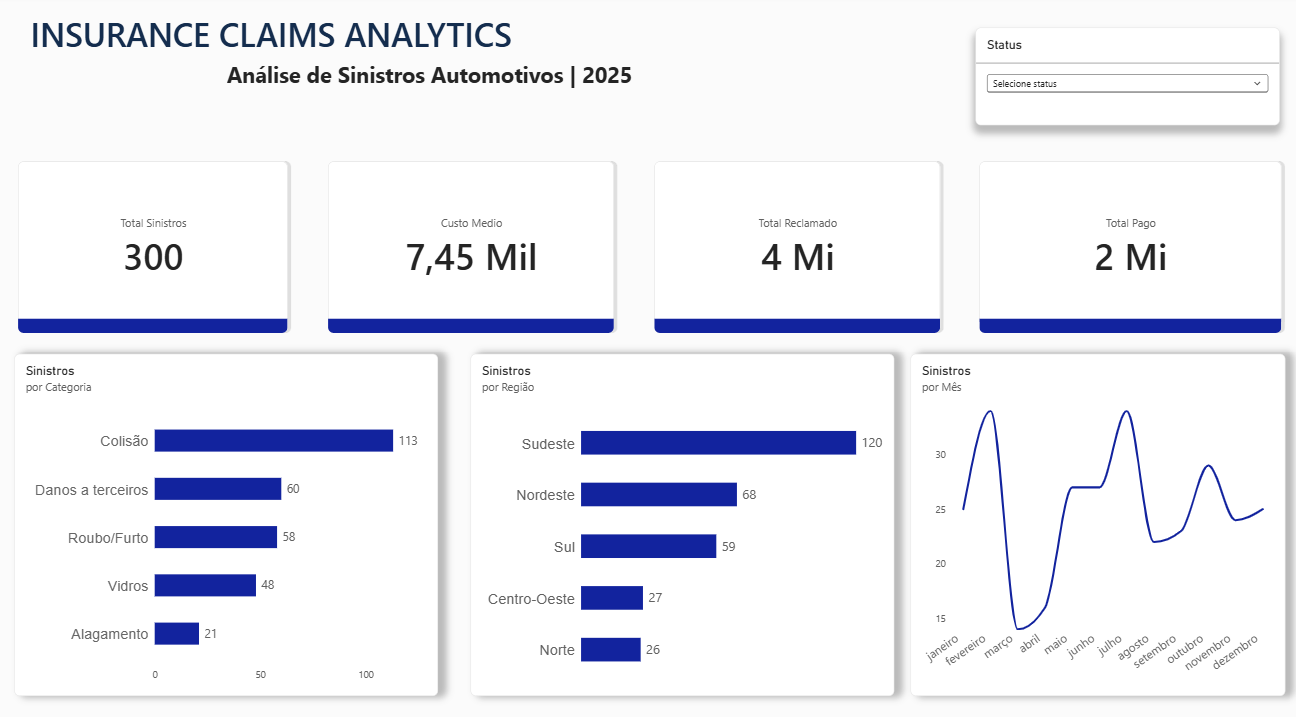

The dashboard page shown, as its layout file describes it:
{"tool":"powerbi","page":{"name":"Página 1","canvas":[1920,1080],"ordinal":0},"visuals":[{"type":"cardVisual","fields":{"Data":["sinistros_2025.Total Sinistros"]},"box":[24,240,408,264],"z":0},{"type":"cardVisual","fields":{"Data":["sinistros_2025.Custo Medio"]},"box":[480,240,432,264],"z":1},{"type":"cardVisual","fields":{"Data":["sinistros_2025.Total Reclamado"]},"box":[960,240,432,264],"z":2},{"type":"cardVisual","fields":{"Data":["sinistros_2025.Total Pago"]},"box":[1440,240,456,264],"z":3},{"type":"clusteredBarChart","title":"Sinistros","fields":{"Category":["sinistros_2025.tipo_sinistro"],"Y":["sinistros_2025.Total Sinistros"]},"box":[24,528,624,504],"z":4},{"type":"clusteredBarChart","title":"Sinistros","fields":{"Category":["sinistros_2025.regiao"],"Y":["sinistros_2025.Total Sinistros"]},"box":[696,528,624,504],"z":5},{"type":"lineChart","title":"Sinistros","fields":{"Category":["sinistros_2025.data_ocorrencia.Variação.Hierarquia de datas.Ano","sinistros_2025.data_ocorrencia.Variação.Hierarquia de datas.Mês"],"Y":["sinistros_2025.Total Sinistros"]},"box":[1344,528,552,504],"z":6},{"type":"textbox","box":[48,24,720,72],"z":7},{"type":"textbox","box":[336,96,624,48],"z":8},{"type":"listSlicer","title":"Status","fields":{"Values":["sinistros_2025.status"]},"box":[1440,48,448,144],"z":9}]}

Visuals, with their boxes in screenshot pixels (x1, y1, x2, y2), scaled from the page's 1920x1080 canvas onto the 1296x717 screenshot:
cardVisual - sinistros_2025.Total Sinistros: {"left": 16, "top": 159, "right": 292, "bottom": 335}
cardVisual - sinistros_2025.Custo Medio: {"left": 324, "top": 159, "right": 616, "bottom": 335}
cardVisual - sinistros_2025.Total Reclamado: {"left": 648, "top": 159, "right": 940, "bottom": 335}
cardVisual - sinistros_2025.Total Pago: {"left": 972, "top": 159, "right": 1280, "bottom": 335}
"Sinistros" clusteredBarChart: {"left": 16, "top": 351, "right": 437, "bottom": 685}
"Sinistros" clusteredBarChart: {"left": 470, "top": 351, "right": 891, "bottom": 685}
"Sinistros" lineChart: {"left": 907, "top": 351, "right": 1280, "bottom": 685}
textbox: {"left": 32, "top": 16, "right": 518, "bottom": 64}
textbox: {"left": 227, "top": 64, "right": 648, "bottom": 96}
"Status" listSlicer: {"left": 972, "top": 32, "right": 1274, "bottom": 127}
